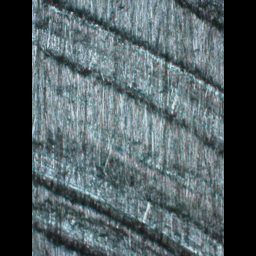d: (32, 0, 221, 156), (33, 145, 223, 254)
